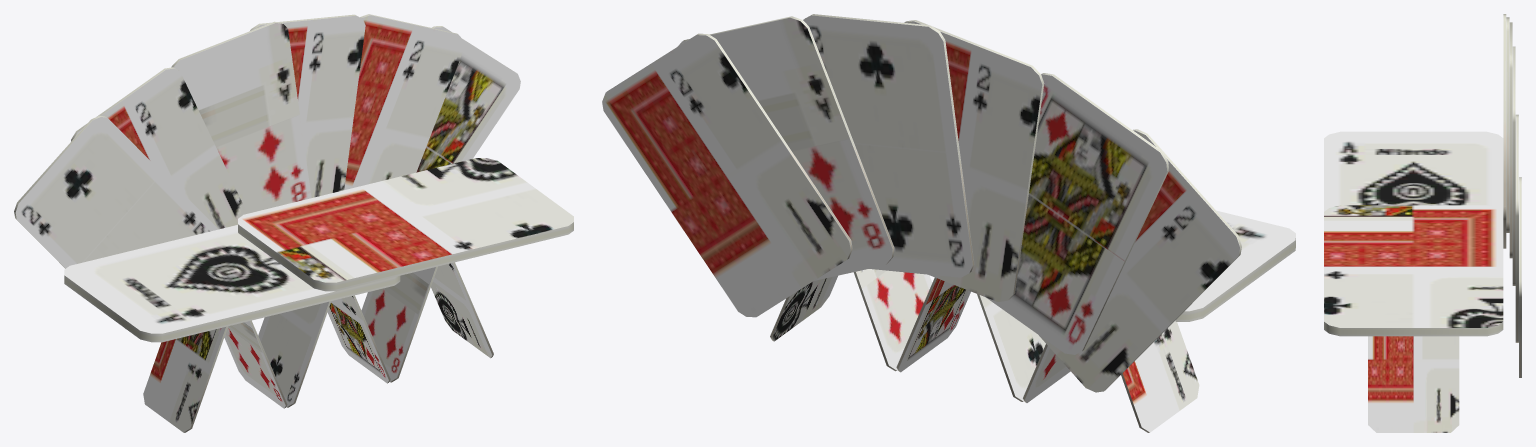
Rendered from rmk_trp_chairL.dae.
3 renders of one model, left to right at view 1: azimuth 30°, elevation 25°; view 2: azimuth 150°, elevation 25°; view 3: azimuth 270°, elevation 25°, orthographic. The views are drawn at different scales.
Visible parts, largest first — view 1: rmk_trp_chairL; view 2: rmk_trp_chairL; view 3: rmk_trp_chairL.
Part boxes in pixels (left/top/right/bottom): rmk_trp_chairL: left=14, top=14, right=573, bottom=432; rmk_trp_chairL: left=602, top=14, right=1295, bottom=432; rmk_trp_chairL: left=1324, top=14, right=1521, bottom=432.
Bounding box in the file's own units: 61.43 × 36.69 × 21.22.
Materials: 1 (1 with a texture image).
